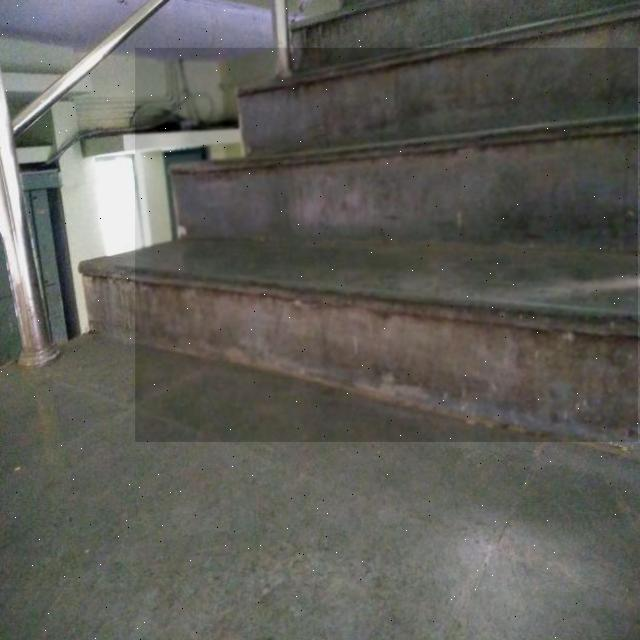stair: (135, 48, 638, 442)
